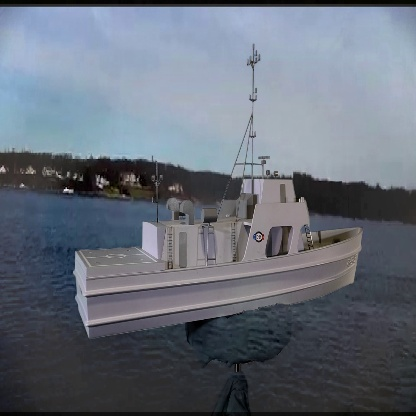YP689: (71, 41, 365, 341)
